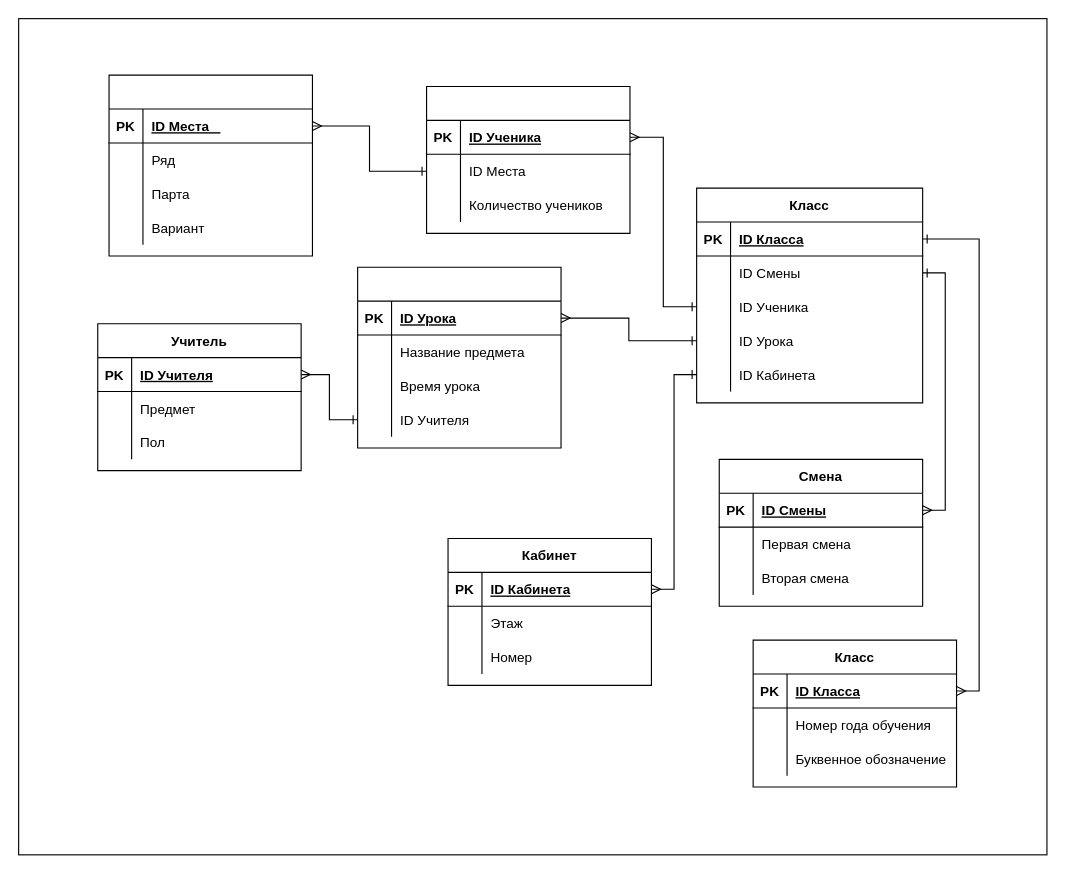
Some shapes in this 1066 by 873 pixel diagram are drawn without their labels. The shapes that lost their labels are listed below. From the top down, each one's box as (x1, y1, x2, y2) in pixels, then its label:
(108, 74, 312, 256): Место
(425, 85, 630, 233): Ученики
(357, 266, 561, 448): Уроки
